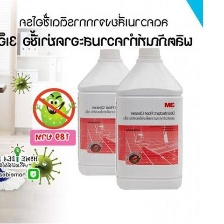cleaning_solution: (113, 45, 186, 194), (75, 47, 145, 179)
